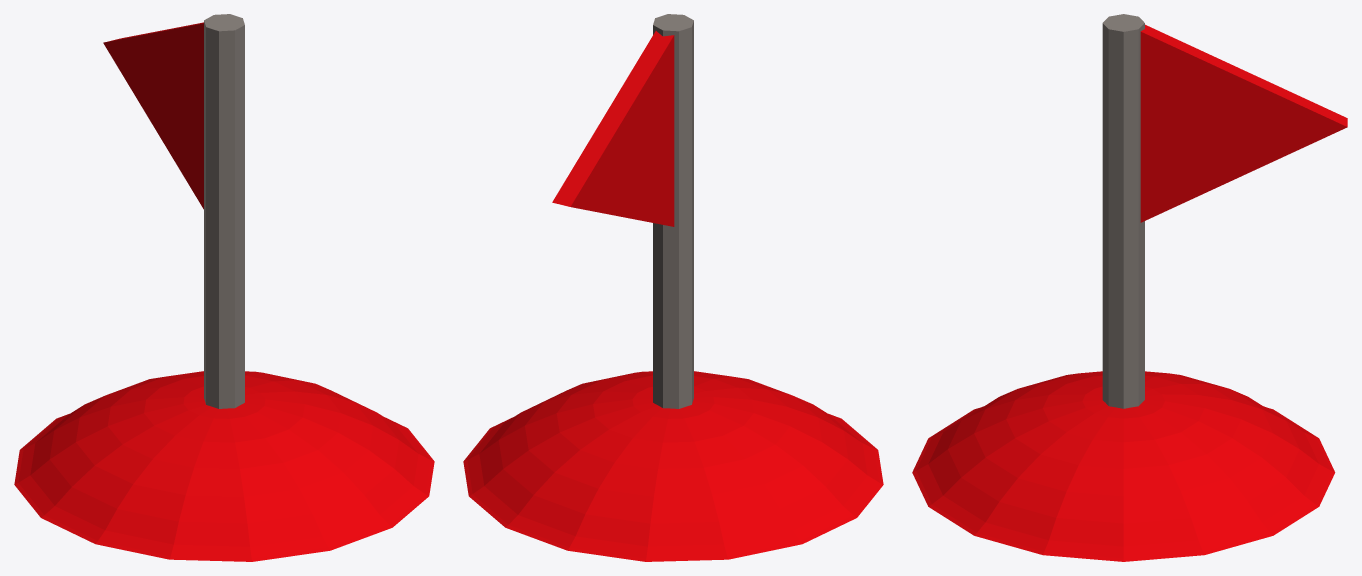
The model's file is poi.fbx.
3 views of the same model, side by side, from view 1: azimuth 30°, elevation 25°; view 2: azimuth 150°, elevation 25°; view 3: azimuth 270°, elevation 25° (orthographic).
Parts seen in each view (by area): view 1: Sphere; view 2: Sphere; view 3: Sphere.
Part boxes in pixels (box(x1,y1,x2,y2)): Sphere: box(14, 14, 434, 561); Sphere: box(463, 14, 883, 561); Sphere: box(912, 14, 1347, 561).
Size of the model in its own units: 200 by 234 by 206.
